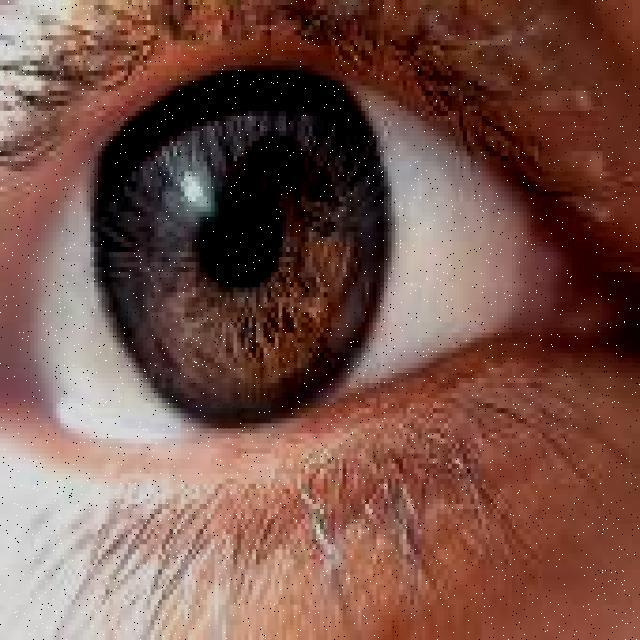Normal: (0, 0, 636, 635)
